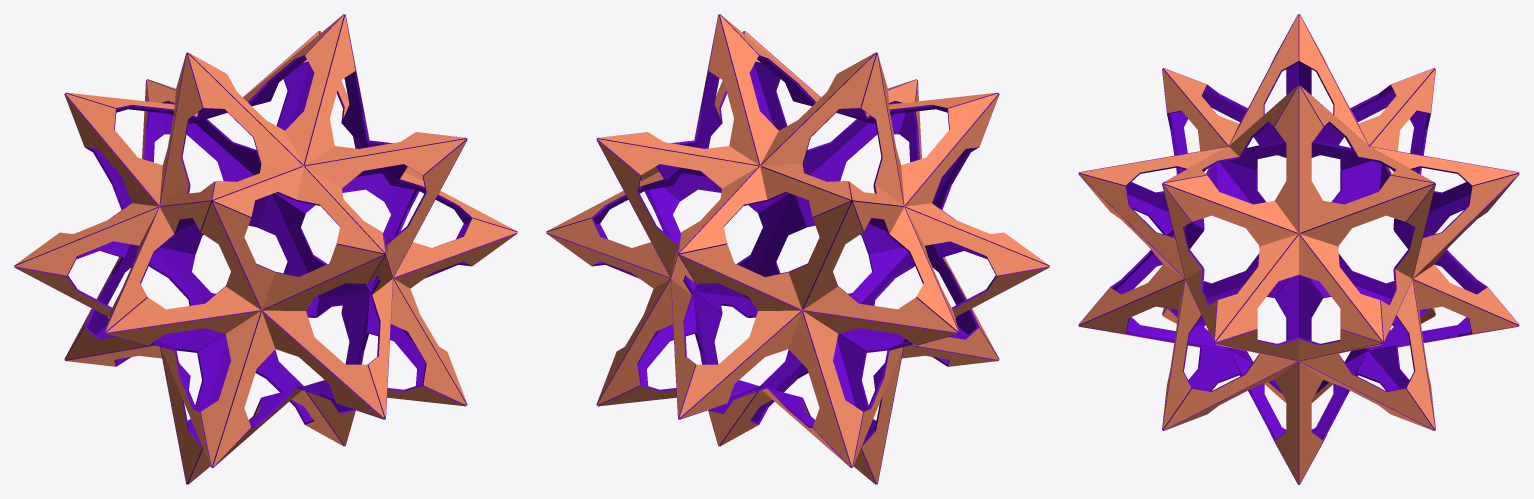
File: GreatDodecicosacronS1.glb
3 renders of one model, left to right at view 1: azimuth 30°, elevation 25°; view 2: azimuth 150°, elevation 25°; view 3: azimuth 270°, elevation 25°, orthographic. The views are drawn at different scales.
Parts seen in each view (by area): view 1: root; view 2: root; view 3: root.
Part boxes in pixels (bbox=[...]): root: bbox=[14, 14, 517, 484]; root: bbox=[546, 14, 1049, 484]; root: bbox=[1078, 14, 1519, 484].
Size of the model in its own units: 10.15 by 10.15 by 10.15.
